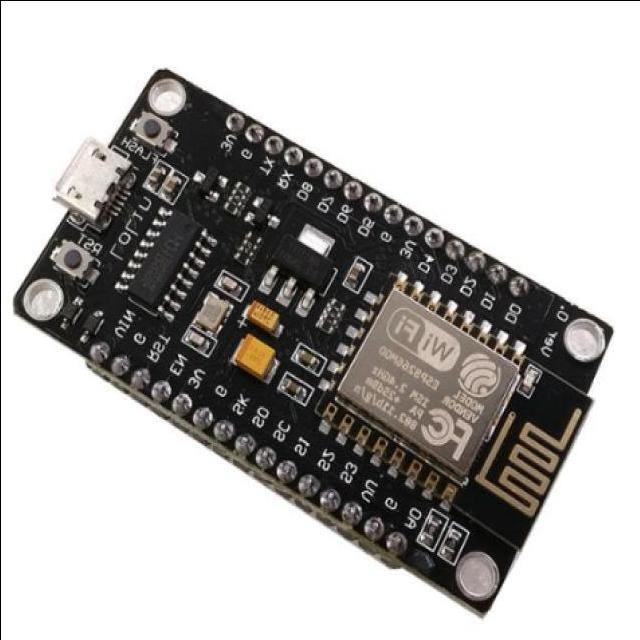Esp8266: (15, 70, 612, 613)
